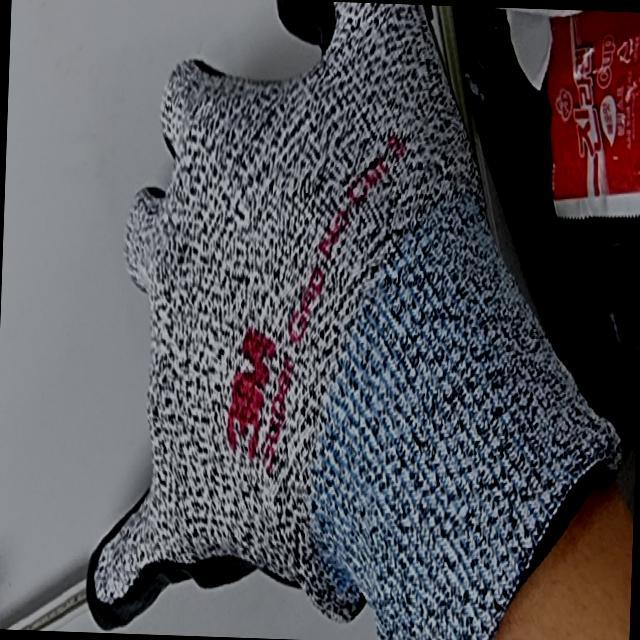Gloves: (82, 0, 630, 636)
